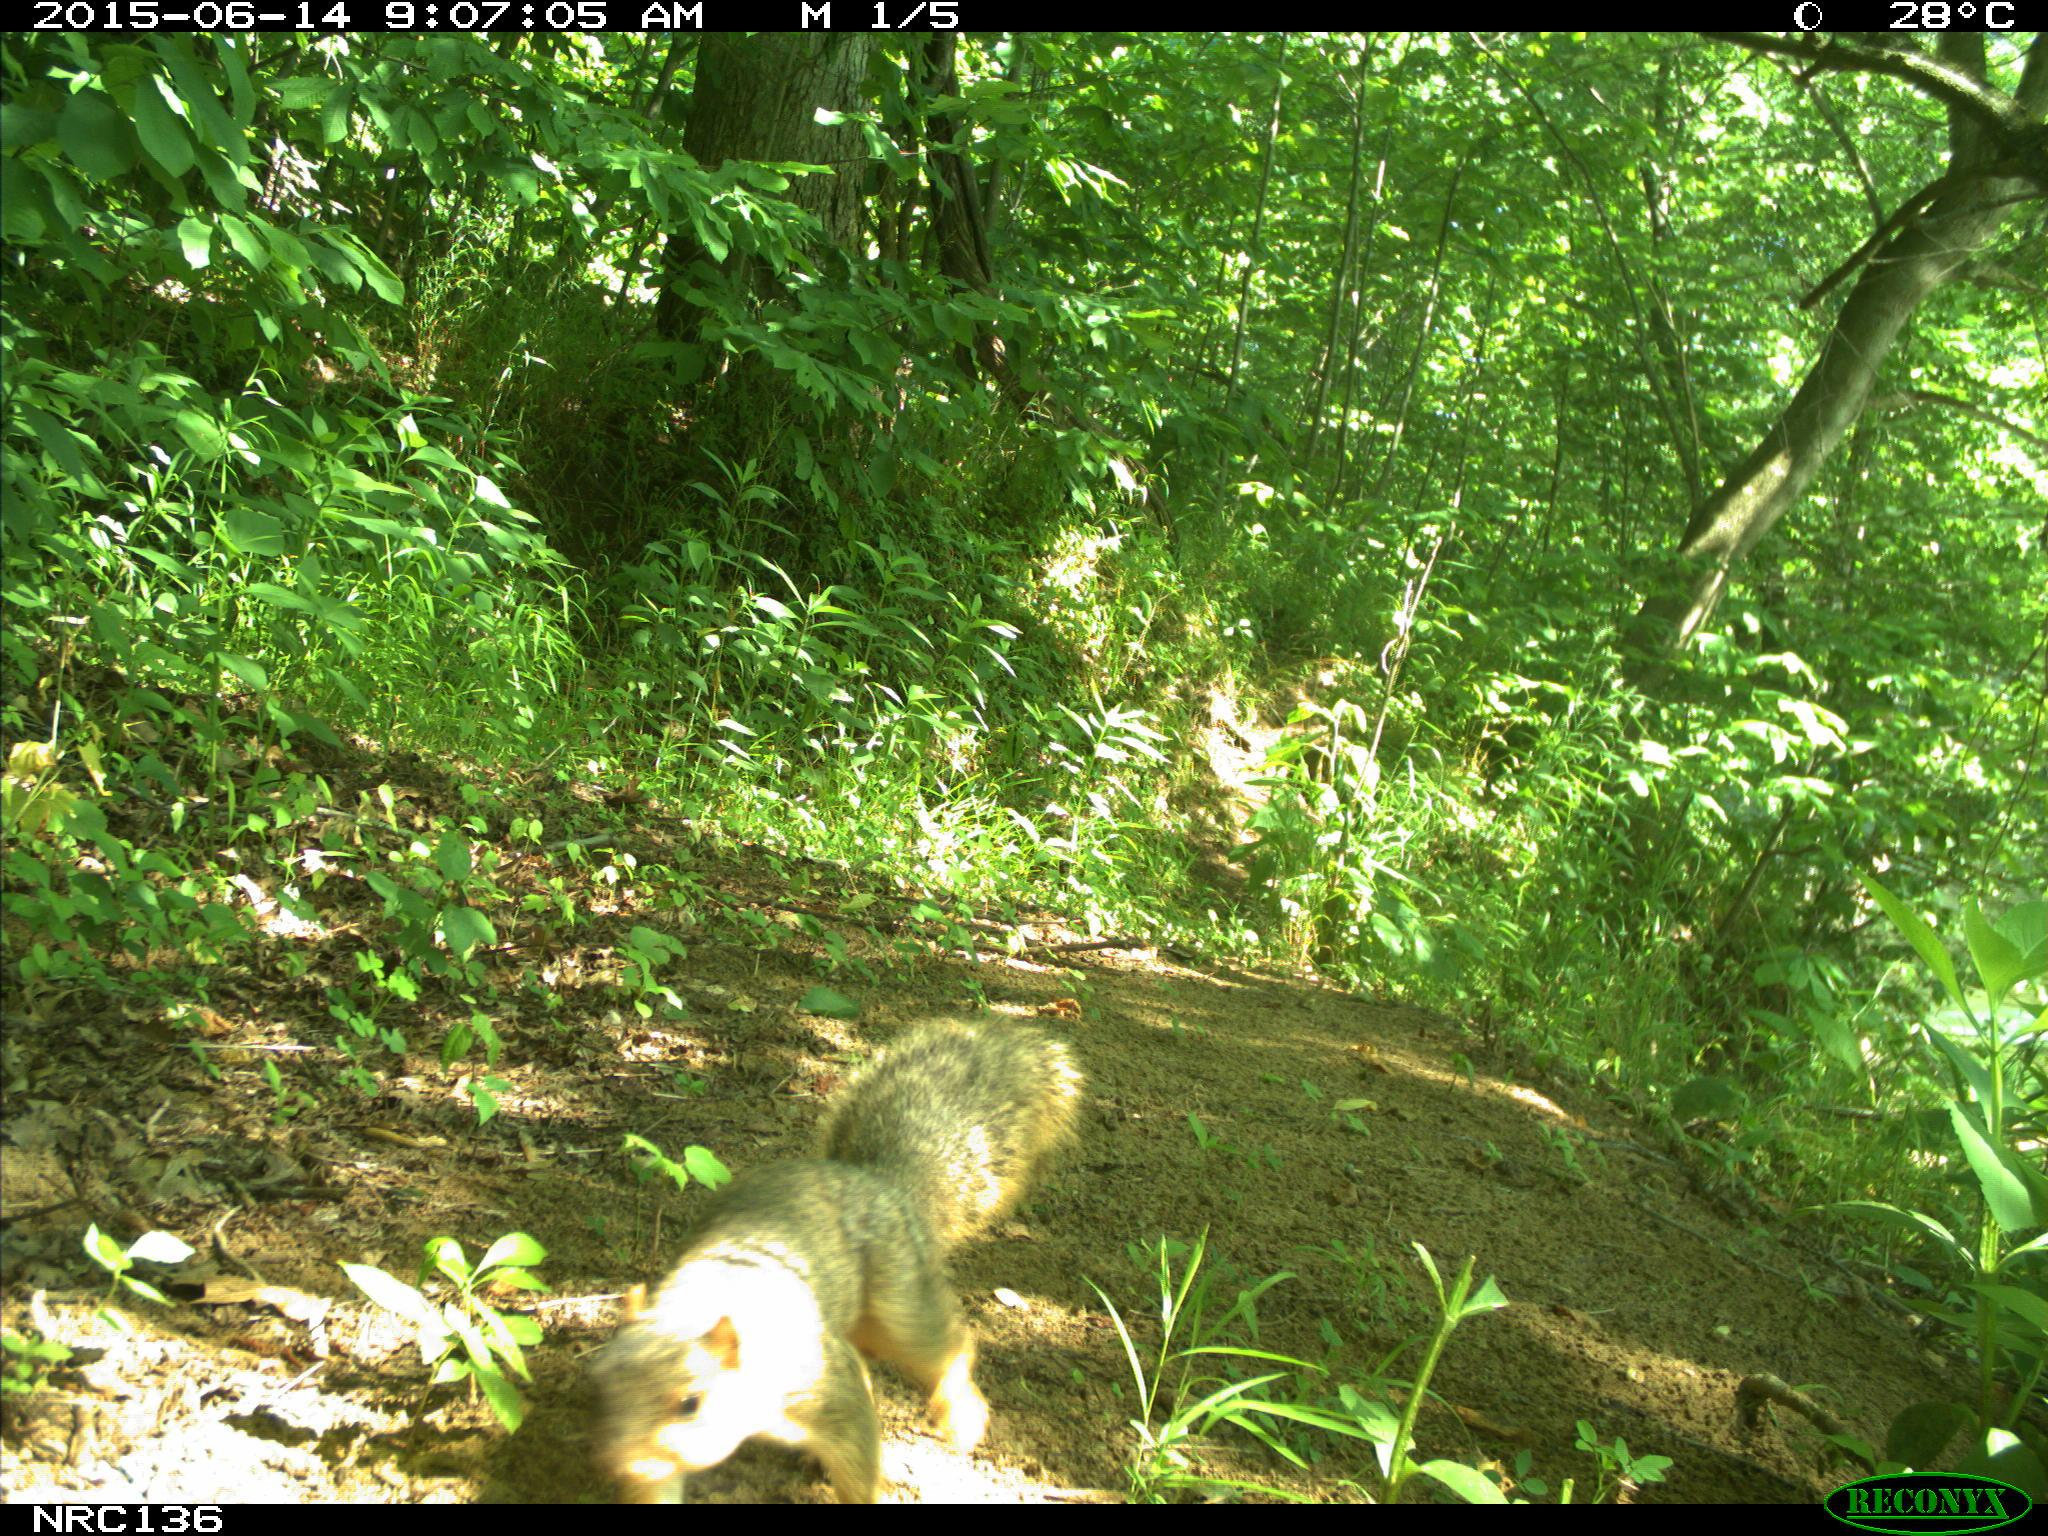Animal: (577, 1007, 1089, 1504)
